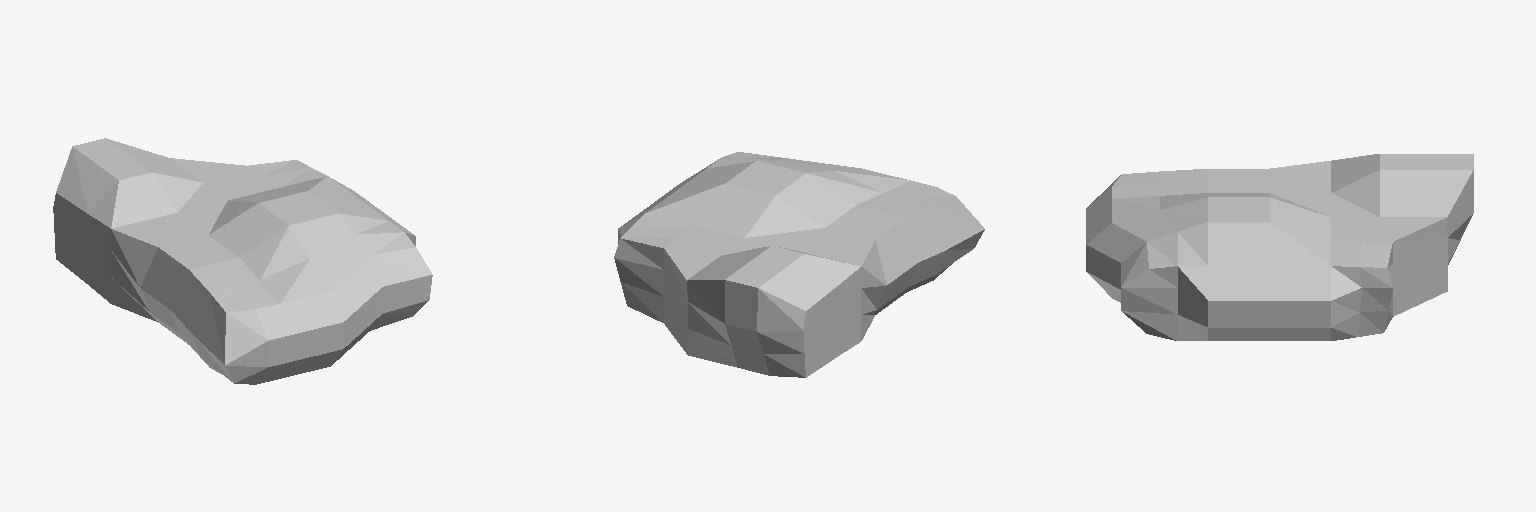
The model's file is wide_flat_rock.obj.
3 renders of one model, left to right at view 1: azimuth 30°, elevation 25°; view 2: azimuth 150°, elevation 25°; view 3: azimuth 270°, elevation 25°, orthographic.
Parts seen in each view (by area): view 1: Cube; view 2: Cube; view 3: Cube.
Boxes of the visible parts, x1,y1,x2,y2 form: Cube: [53, 138, 432, 384]; Cube: [614, 152, 984, 377]; Cube: [1086, 154, 1473, 340].
Bounding box in the file's own units: 13.57 × 6.27 × 18.33.